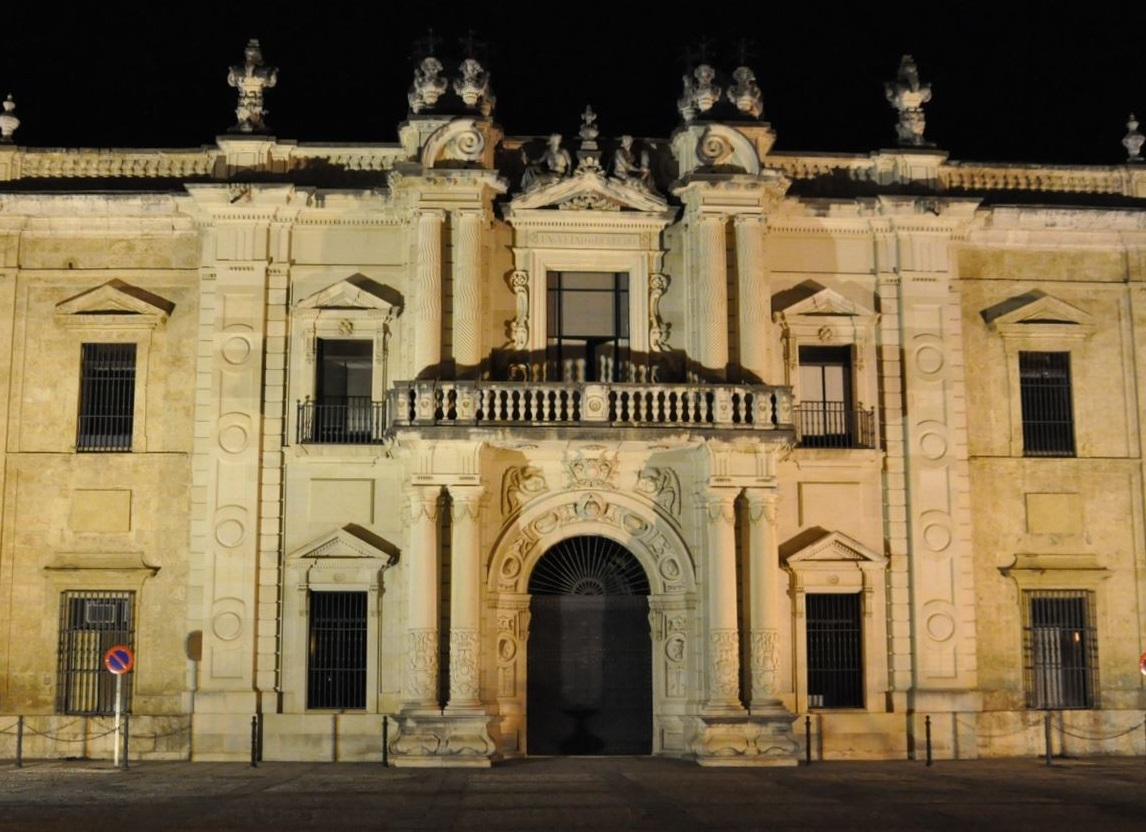arco-medio-punto: (520, 528, 663, 616)
fronton: (505, 170, 676, 230), (43, 276, 177, 328), (287, 274, 403, 326), (989, 288, 1104, 339), (770, 283, 887, 328), (782, 528, 895, 574), (287, 524, 399, 568)
fronton-partido: (413, 111, 779, 195)
vano-adintelado: (509, 243, 649, 421), (39, 564, 159, 716), (997, 565, 1114, 713), (787, 566, 888, 714), (288, 314, 391, 459), (52, 322, 160, 458), (292, 576, 389, 715), (1000, 336, 1097, 462), (778, 329, 875, 449)
